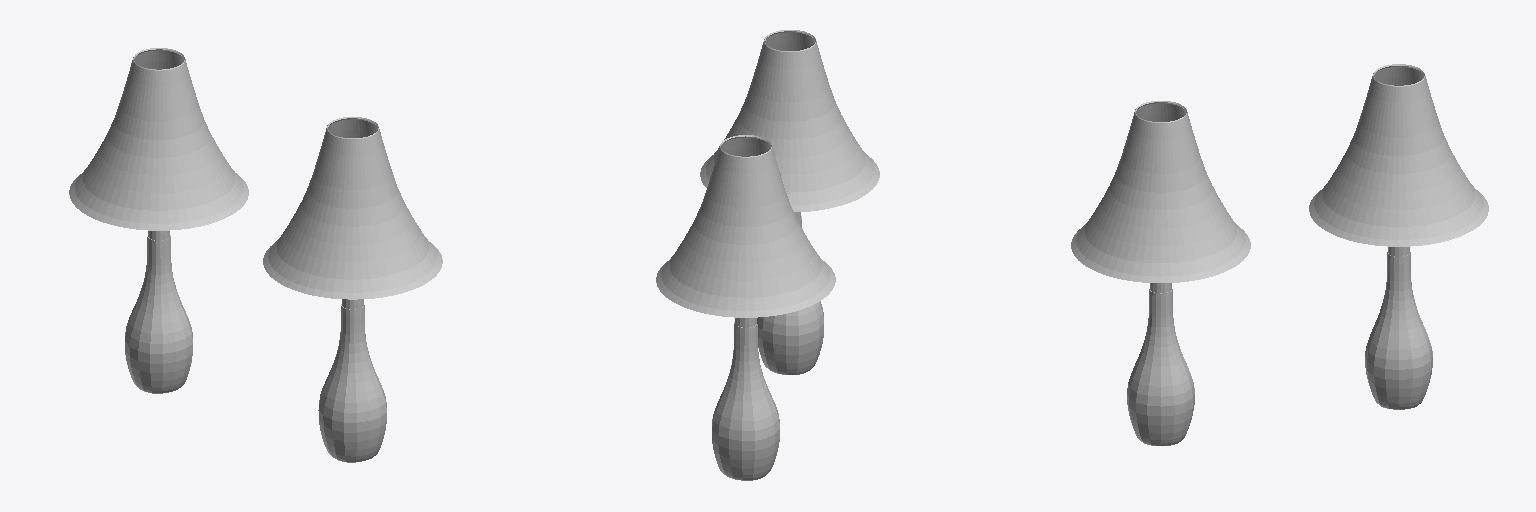
Rendered from luminariademesa.obj.
The picture shows the model from 3 angles: view 1: azimuth 30°, elevation 25°; view 2: azimuth 150°, elevation 25°; view 3: azimuth 270°, elevation 25°; orthographic projection.
Parts seen in each view (by area): view 1: Plane.159_Plane.001, Plane.159_Plane.200; view 2: Plane.159_Plane.001, Plane.159_Plane.200; view 3: Plane.159_Plane.200, Plane.159_Plane.001.
Boxes of the visible parts, x1,y1,x2,y2 form: Plane.159_Plane.001: [69, 48, 248, 393]; Plane.159_Plane.200: [263, 117, 442, 462]; Plane.159_Plane.001: [656, 135, 835, 480]; Plane.159_Plane.200: [700, 30, 879, 374]; Plane.159_Plane.200: [1071, 101, 1250, 445]; Plane.159_Plane.001: [1309, 64, 1488, 409].
Bounding box in the file's own units: 0.7405 × 1 × 1.16.